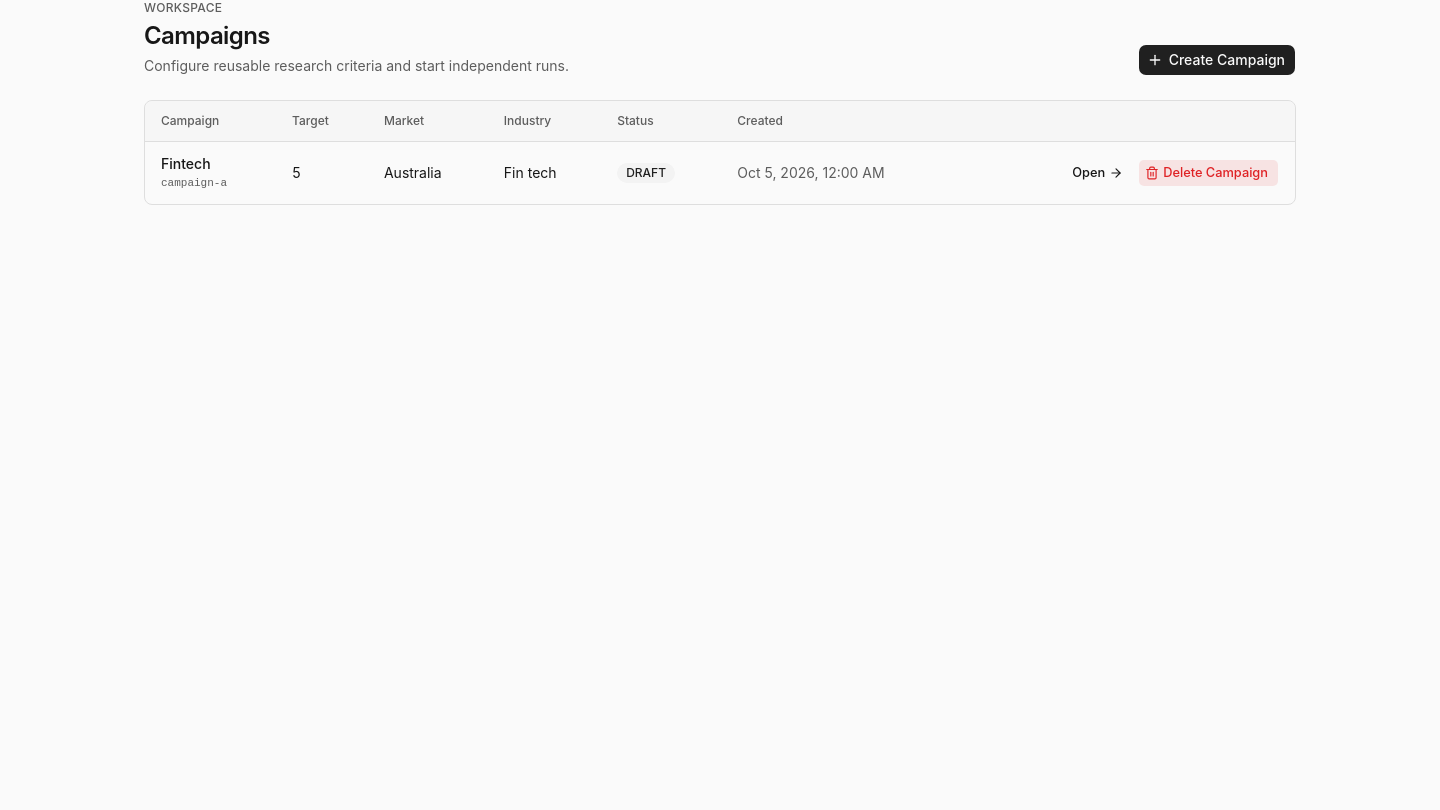
Test: CampaignsPage › keeps the Campaign row and shows a safe message on server failure
Click the button with aria-label "Delete Campaign campaign-a". click: (1209, 173)
box: [1138,159,1279,187]
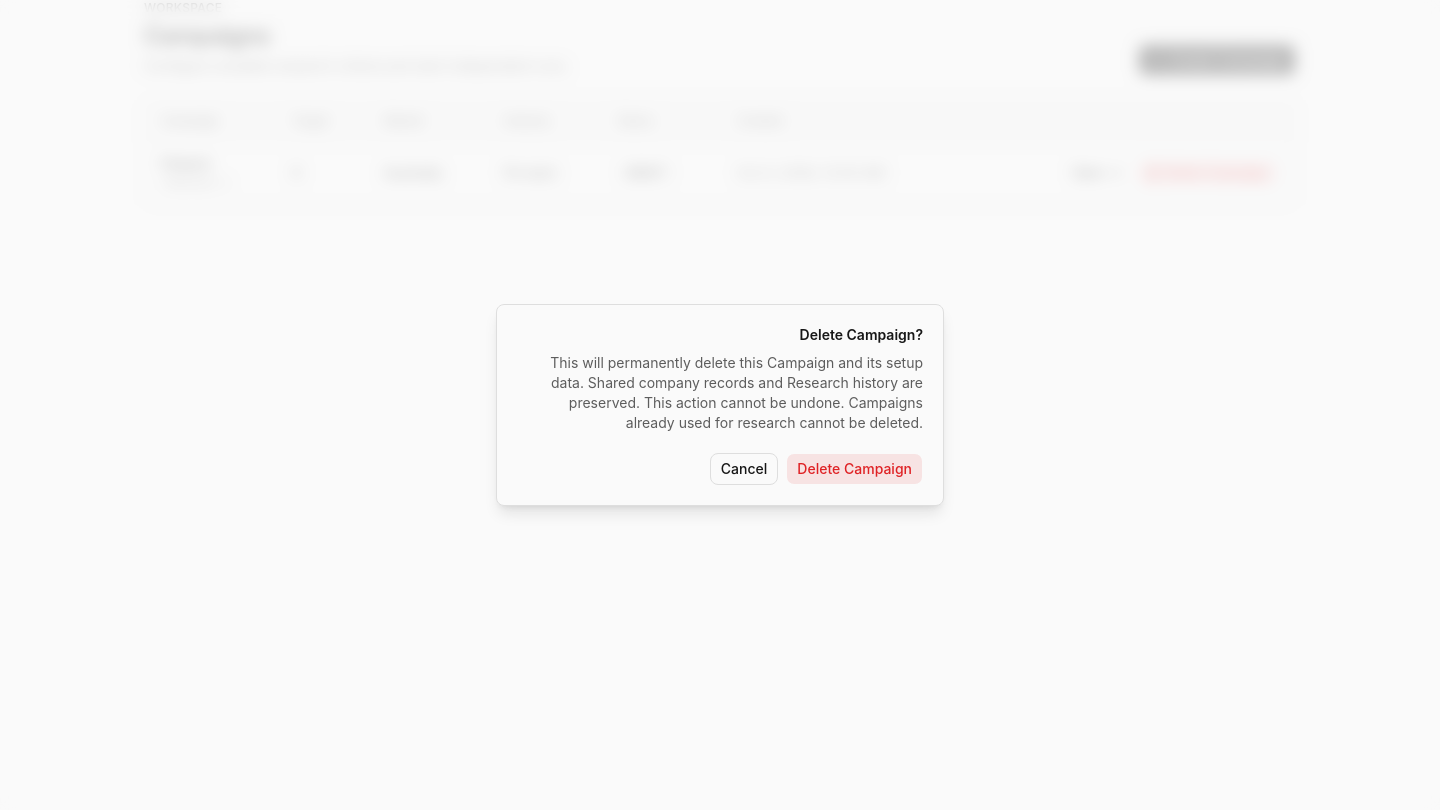
Click the button "Delete Campaign" below "Delete Campaign?". click: (855, 469)
box: [786,453,923,485]
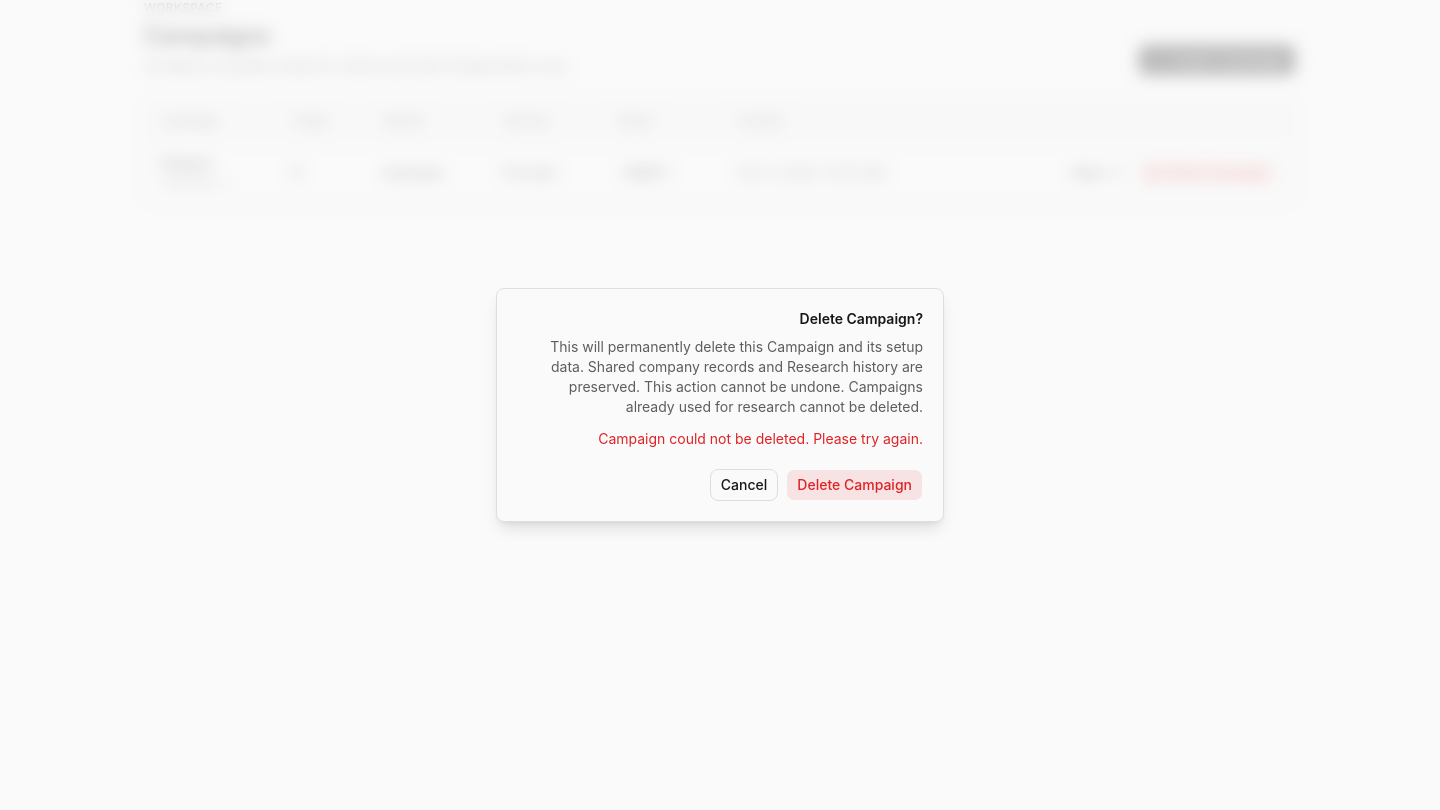
Now the message reads "Campaign could not be deleted. Please try again.", box [598,430,923,447]
